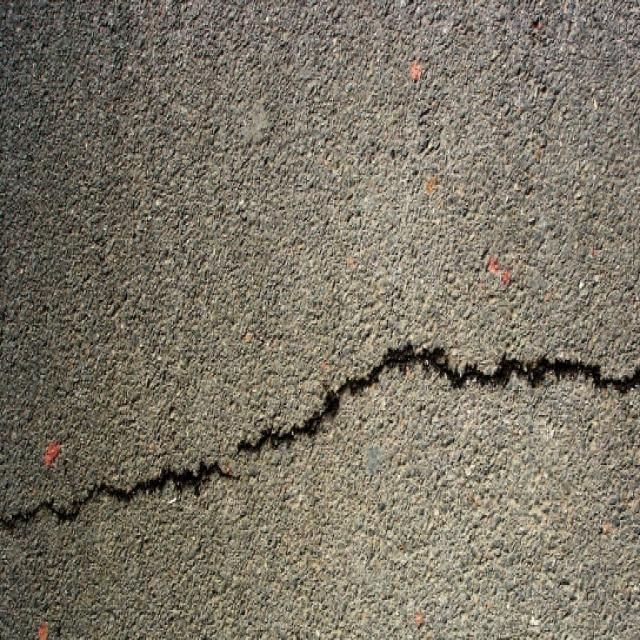Diagonal: (236, 342, 397, 468), (0, 447, 223, 537)
Transverse: (399, 334, 640, 404)
